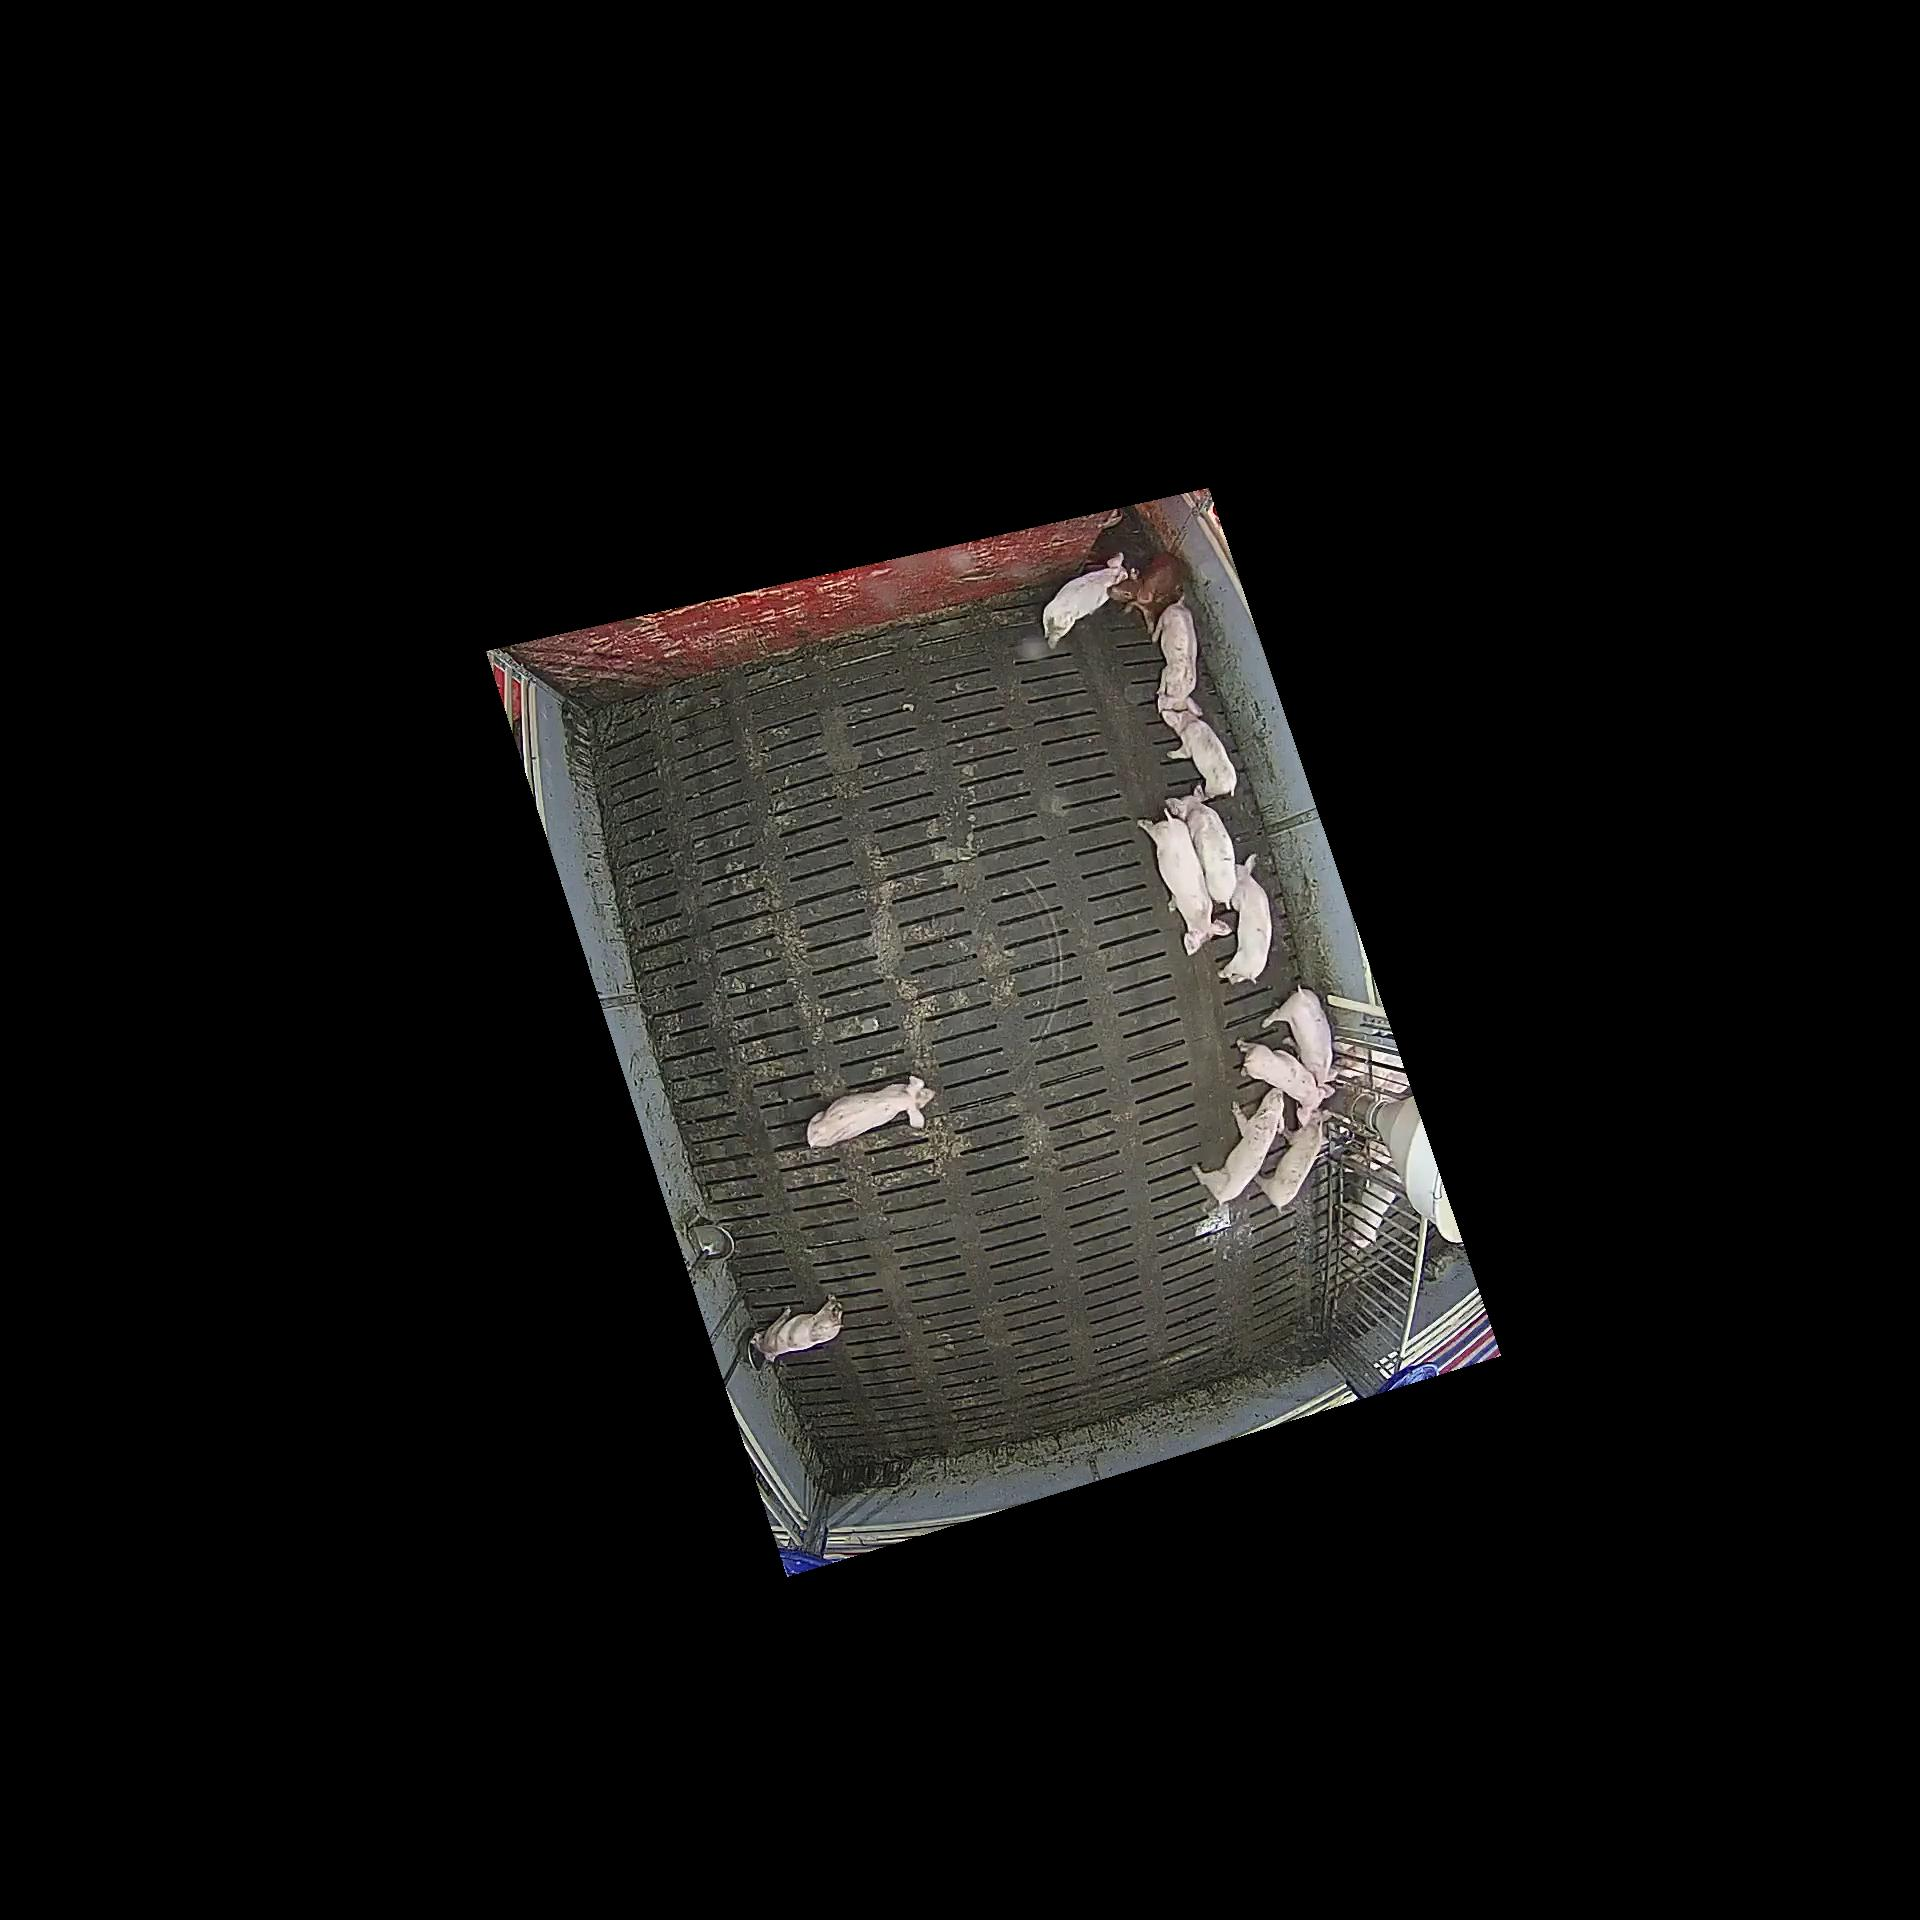pig: (1138, 809, 1233, 956), (1192, 1088, 1285, 1204), (807, 1076, 935, 1148), (1166, 786, 1238, 909), (1254, 1108, 1333, 1213), (1043, 552, 1129, 644), (1262, 985, 1338, 1085), (1217, 855, 1273, 983), (1162, 712, 1240, 798), (1236, 1041, 1335, 1108), (753, 1294, 842, 1364), (1152, 596, 1203, 716), (1108, 552, 1182, 633)
